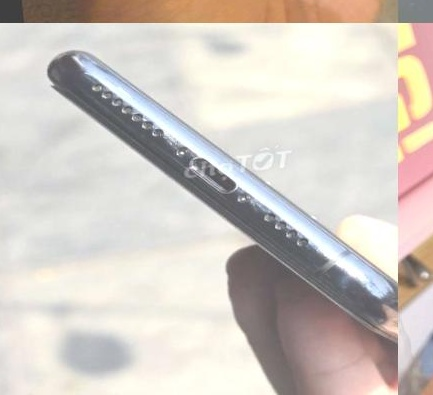scratch: (297, 228, 383, 303), (135, 119, 185, 151), (239, 190, 275, 219)
